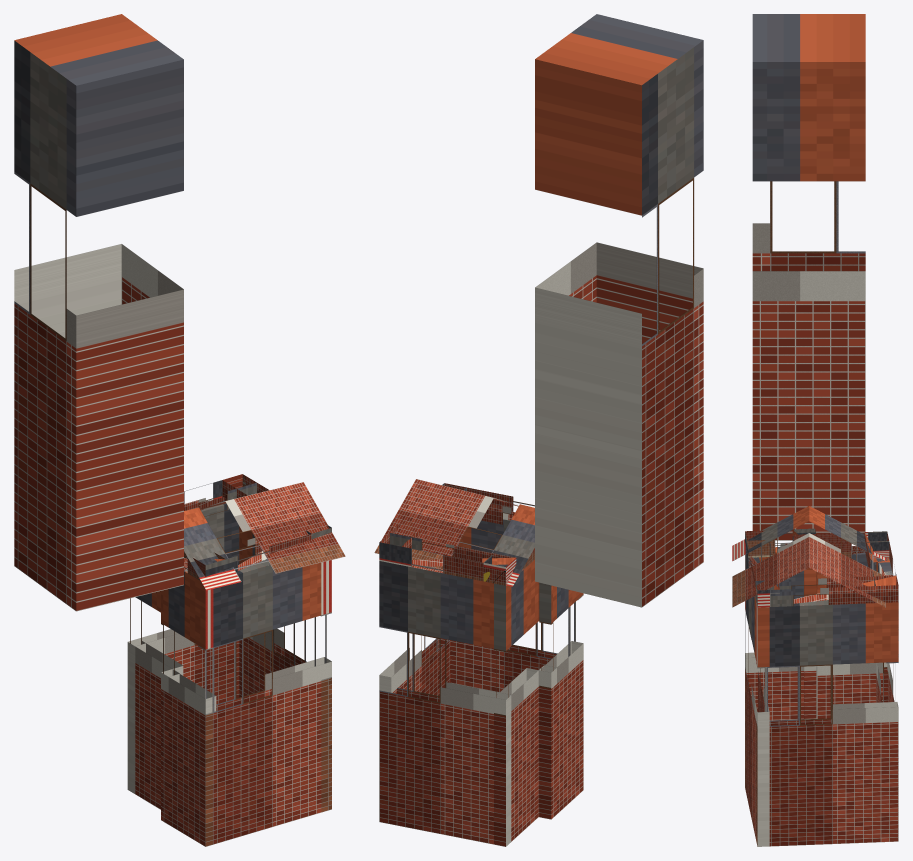
3 renders of one model, left to right at view 1: azimuth 30°, elevation 25°; view 2: azimuth 150°, elevation 25°; view 3: azimuth 270°, elevation 25°, orthographic. The views are drawn at different scales.
Parts seen in each view (by area): view 1: 538891967__chimney_0_xb, 538891967__wall_0_xb, 538891967_roof_-1_xb, 538891967__wall_5_xb, 538891967__wall_2_xb, 538891967__wall_1_xb, 538891967__wall_3_xb, 538891967__wall_4_xb, 538891967__cornice_0, 538891967__cornice_2, 538891967__cornice_1; view 2: 538891967__chimney_0_xb, 538891967__wall_2_xb, 538891967__wall_3_xb, 538891967__wall_5_xb, 538891967_roof_1_xb, 538891967__wall_0_xb, 538891967__cornice_2, 538891967__wall_1_xb, 538891967__wall_4_xb, 538891967__cornice_0; view 3: 538891967__chimney_0_xb, 538891967__wall_1_xb, 538891967__wall_0_xb, 538891967_roof_-1_xb, 538891967__wall_3_xb, 538891967_roof_1_xb, 538891967__wall_5_xb, 538891967__cornice_1, 538891967__wall_4_xb, 538891967__cornice_3, 538891967__cornice_5, 538891967__wall_2_xb (+2 smaller).
Part boxes in pixels (x1,y1,x2,y2): 538891967__chimney_0_xb: (14, 14, 183, 611); 538891967__wall_0_xb: (198, 559, 331, 846); 538891967_roof_-1_xb: (184, 482, 345, 590); 538891967__wall_5_xb: (161, 570, 216, 846); 538891967__wall_2_xb: (127, 500, 239, 793); 538891967__wall_1_xb: (239, 526, 331, 812); 538891967__wall_3_xb: (130, 591, 183, 809); 538891967__wall_4_xb: (161, 589, 180, 824); 538891967__cornice_0: (205, 534, 311, 576); 538891967__cornice_2: (184, 476, 256, 516); 538891967__cornice_1: (222, 474, 331, 539); 538891967__chimney_0_xb: (535, 14, 703, 607); 538891967__wall_2_xb: (379, 561, 511, 846); 538891967__wall_3_xb: (494, 560, 538, 846); 538891967__wall_5_xb: (539, 582, 583, 819); 538891967_roof_1_xb: (374, 479, 534, 586); 538891967__wall_0_xb: (438, 519, 583, 692); 538891967__cornice_2: (379, 533, 516, 585); 538891967__wall_1_xb: (379, 633, 450, 695); 538891967__wall_4_xb: (538, 582, 556, 819); 538891967__cornice_0: (444, 483, 534, 524); 538891967__chimney_0_xb: (752, 14, 865, 540); 538891967__wall_1_xb: (756, 600, 898, 846); 538891967__wall_0_xb: (745, 555, 769, 846); 538891967_roof_-1_xb: (732, 506, 809, 607); 538891967__wall_3_xb: (816, 552, 888, 718); 538891967_roof_1_xb: (809, 506, 885, 607); 538891967__wall_5_xb: (745, 547, 803, 720); 538891967__cornice_1: (755, 575, 898, 607); 538891967__wall_4_xb: (804, 568, 816, 719); 538891967__cornice_3: (816, 531, 889, 558); 538891967__cornice_5: (745, 528, 814, 557); 538891967__wall_2_xb: (876, 558, 898, 787).
Size of the model in its own units: 0.3601 by 1.05 by 0.22.
Materials: 1 (1 with a texture image).
